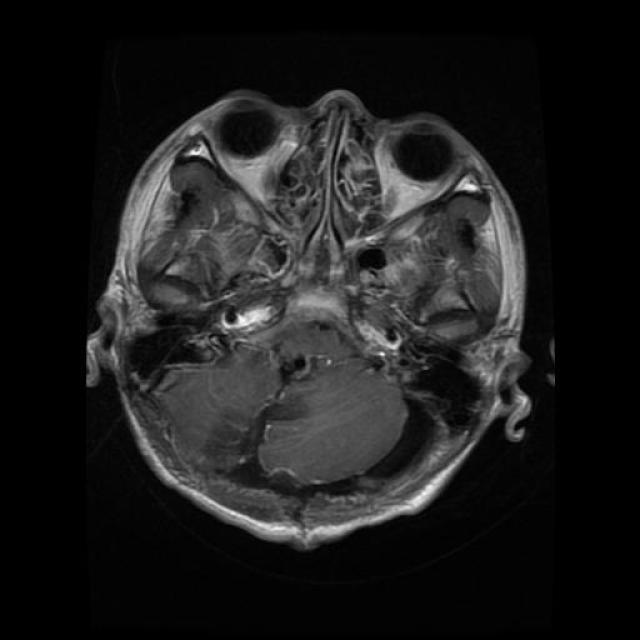glioma: (260, 332, 335, 402)
